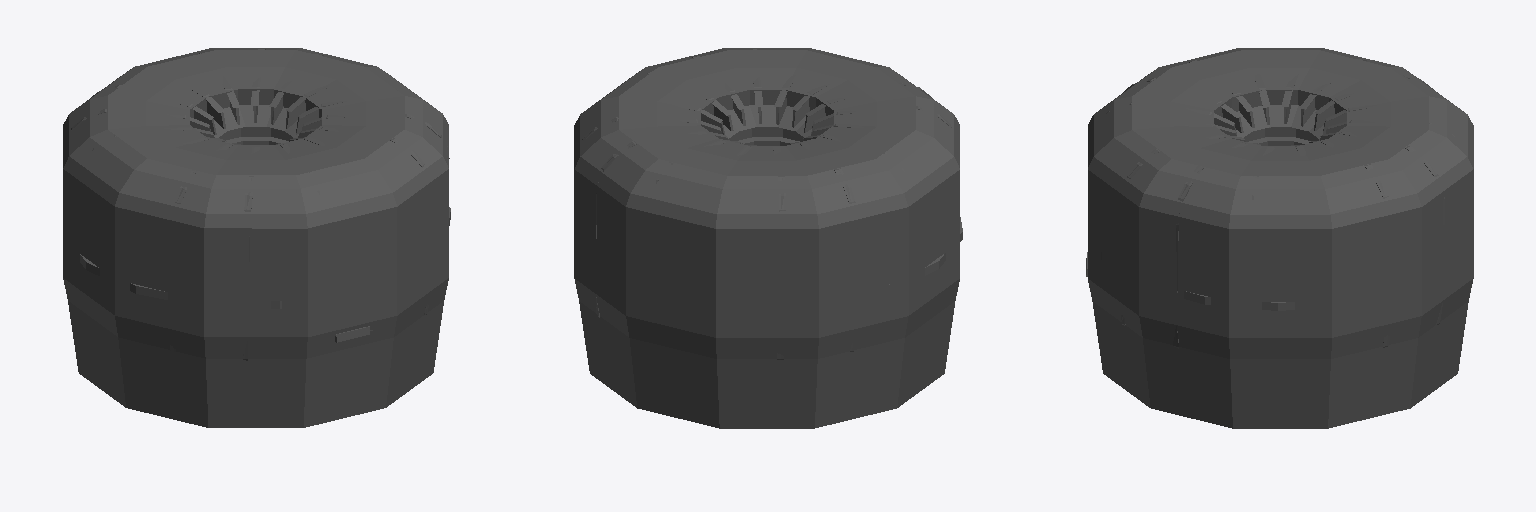
The model's file is tardis-interior-v2.obj.
3 renders of one model, left to right at view 1: azimuth 30°, elevation 25°; view 2: azimuth 150°, elevation 25°; view 3: azimuth 270°, elevation 25°, orthographic.
Visible parts, largest first — view 1: Base_Cylinder, support_Cube.006, Cylinder.001_Cylinder.002; view 2: Base_Cylinder, support_Cube.006; view 3: Base_Cylinder, support_Cube.006.
Part boxes in pixels (x1,y1,x2,y2): Base_Cylinder: (63, 48, 448, 427); support_Cube.006: (71, 49, 449, 360); Cylinder.001_Cylinder.002: (80, 207, 450, 330); Base_Cylinder: (574, 48, 959, 428); support_Cube.006: (582, 49, 951, 359); Base_Cylinder: (1086, 48, 1473, 428); support_Cube.006: (1106, 58, 1454, 348).
Bounding box in the file's own units: 10.58 × 8.49 × 10.41.